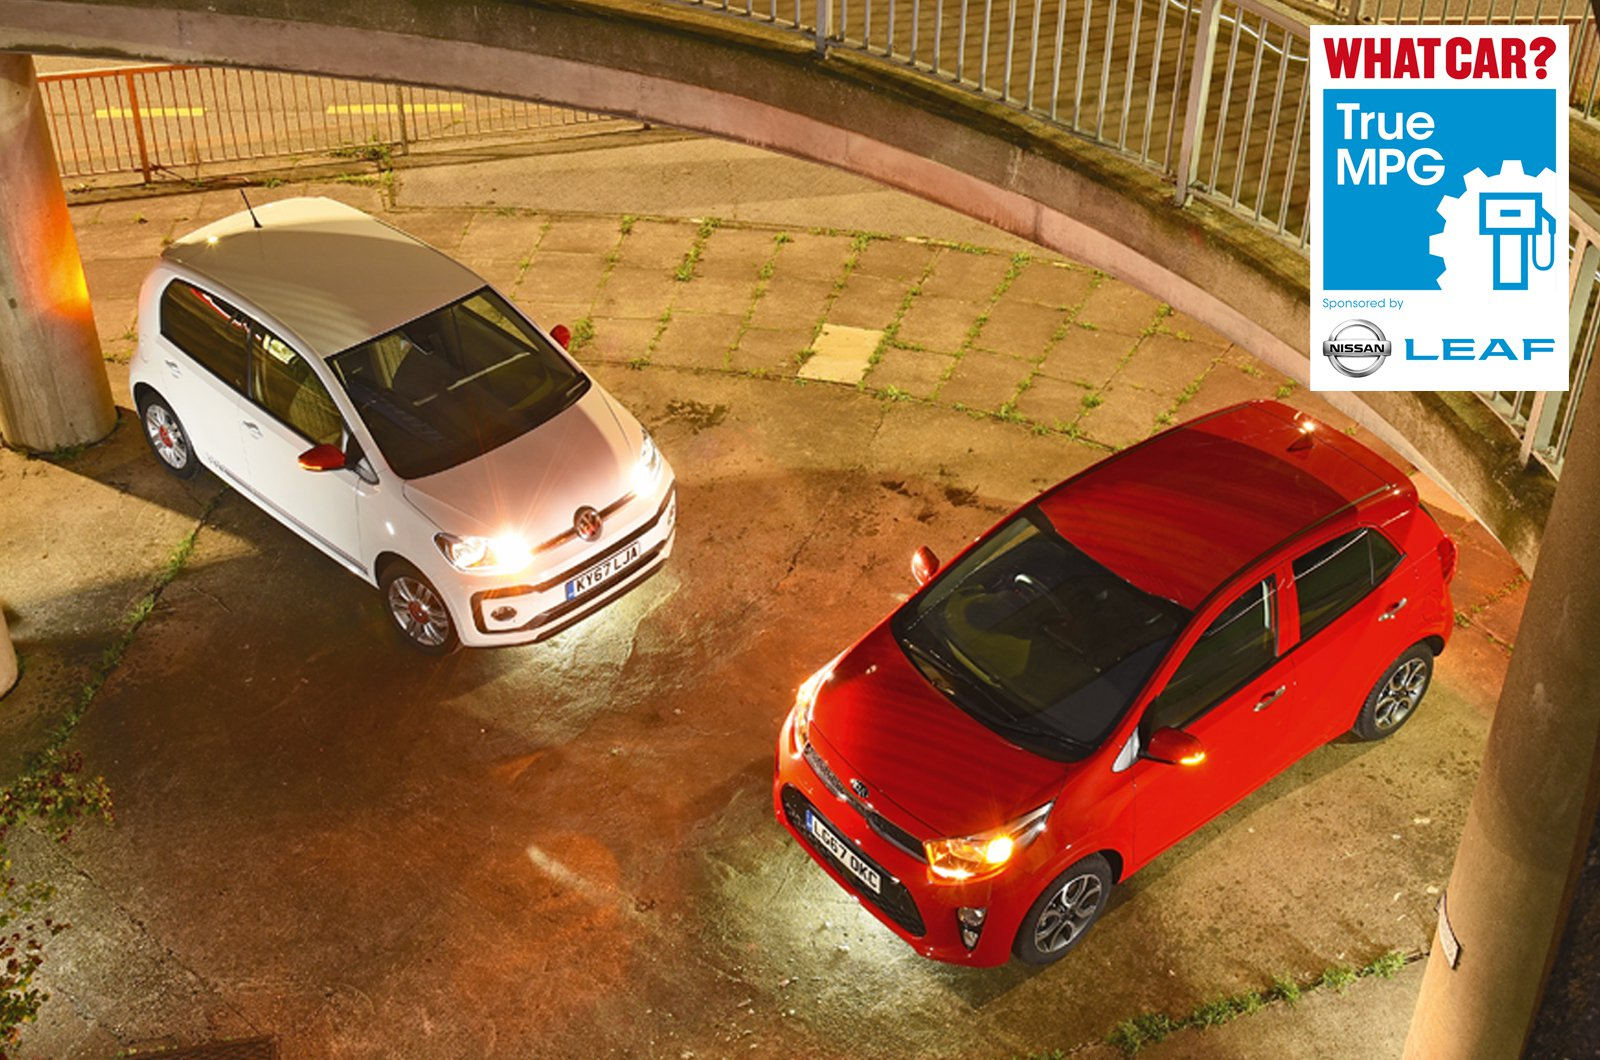Car: (765, 397, 1452, 959), (131, 194, 680, 644)
